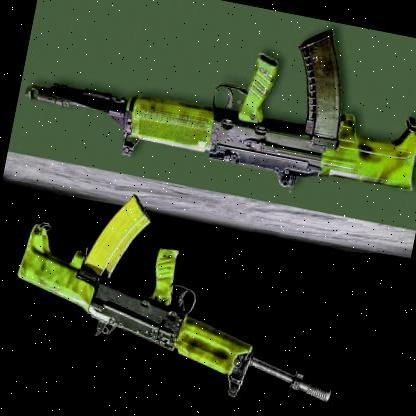rifle: (15, 0, 416, 223), (0, 170, 361, 416)
